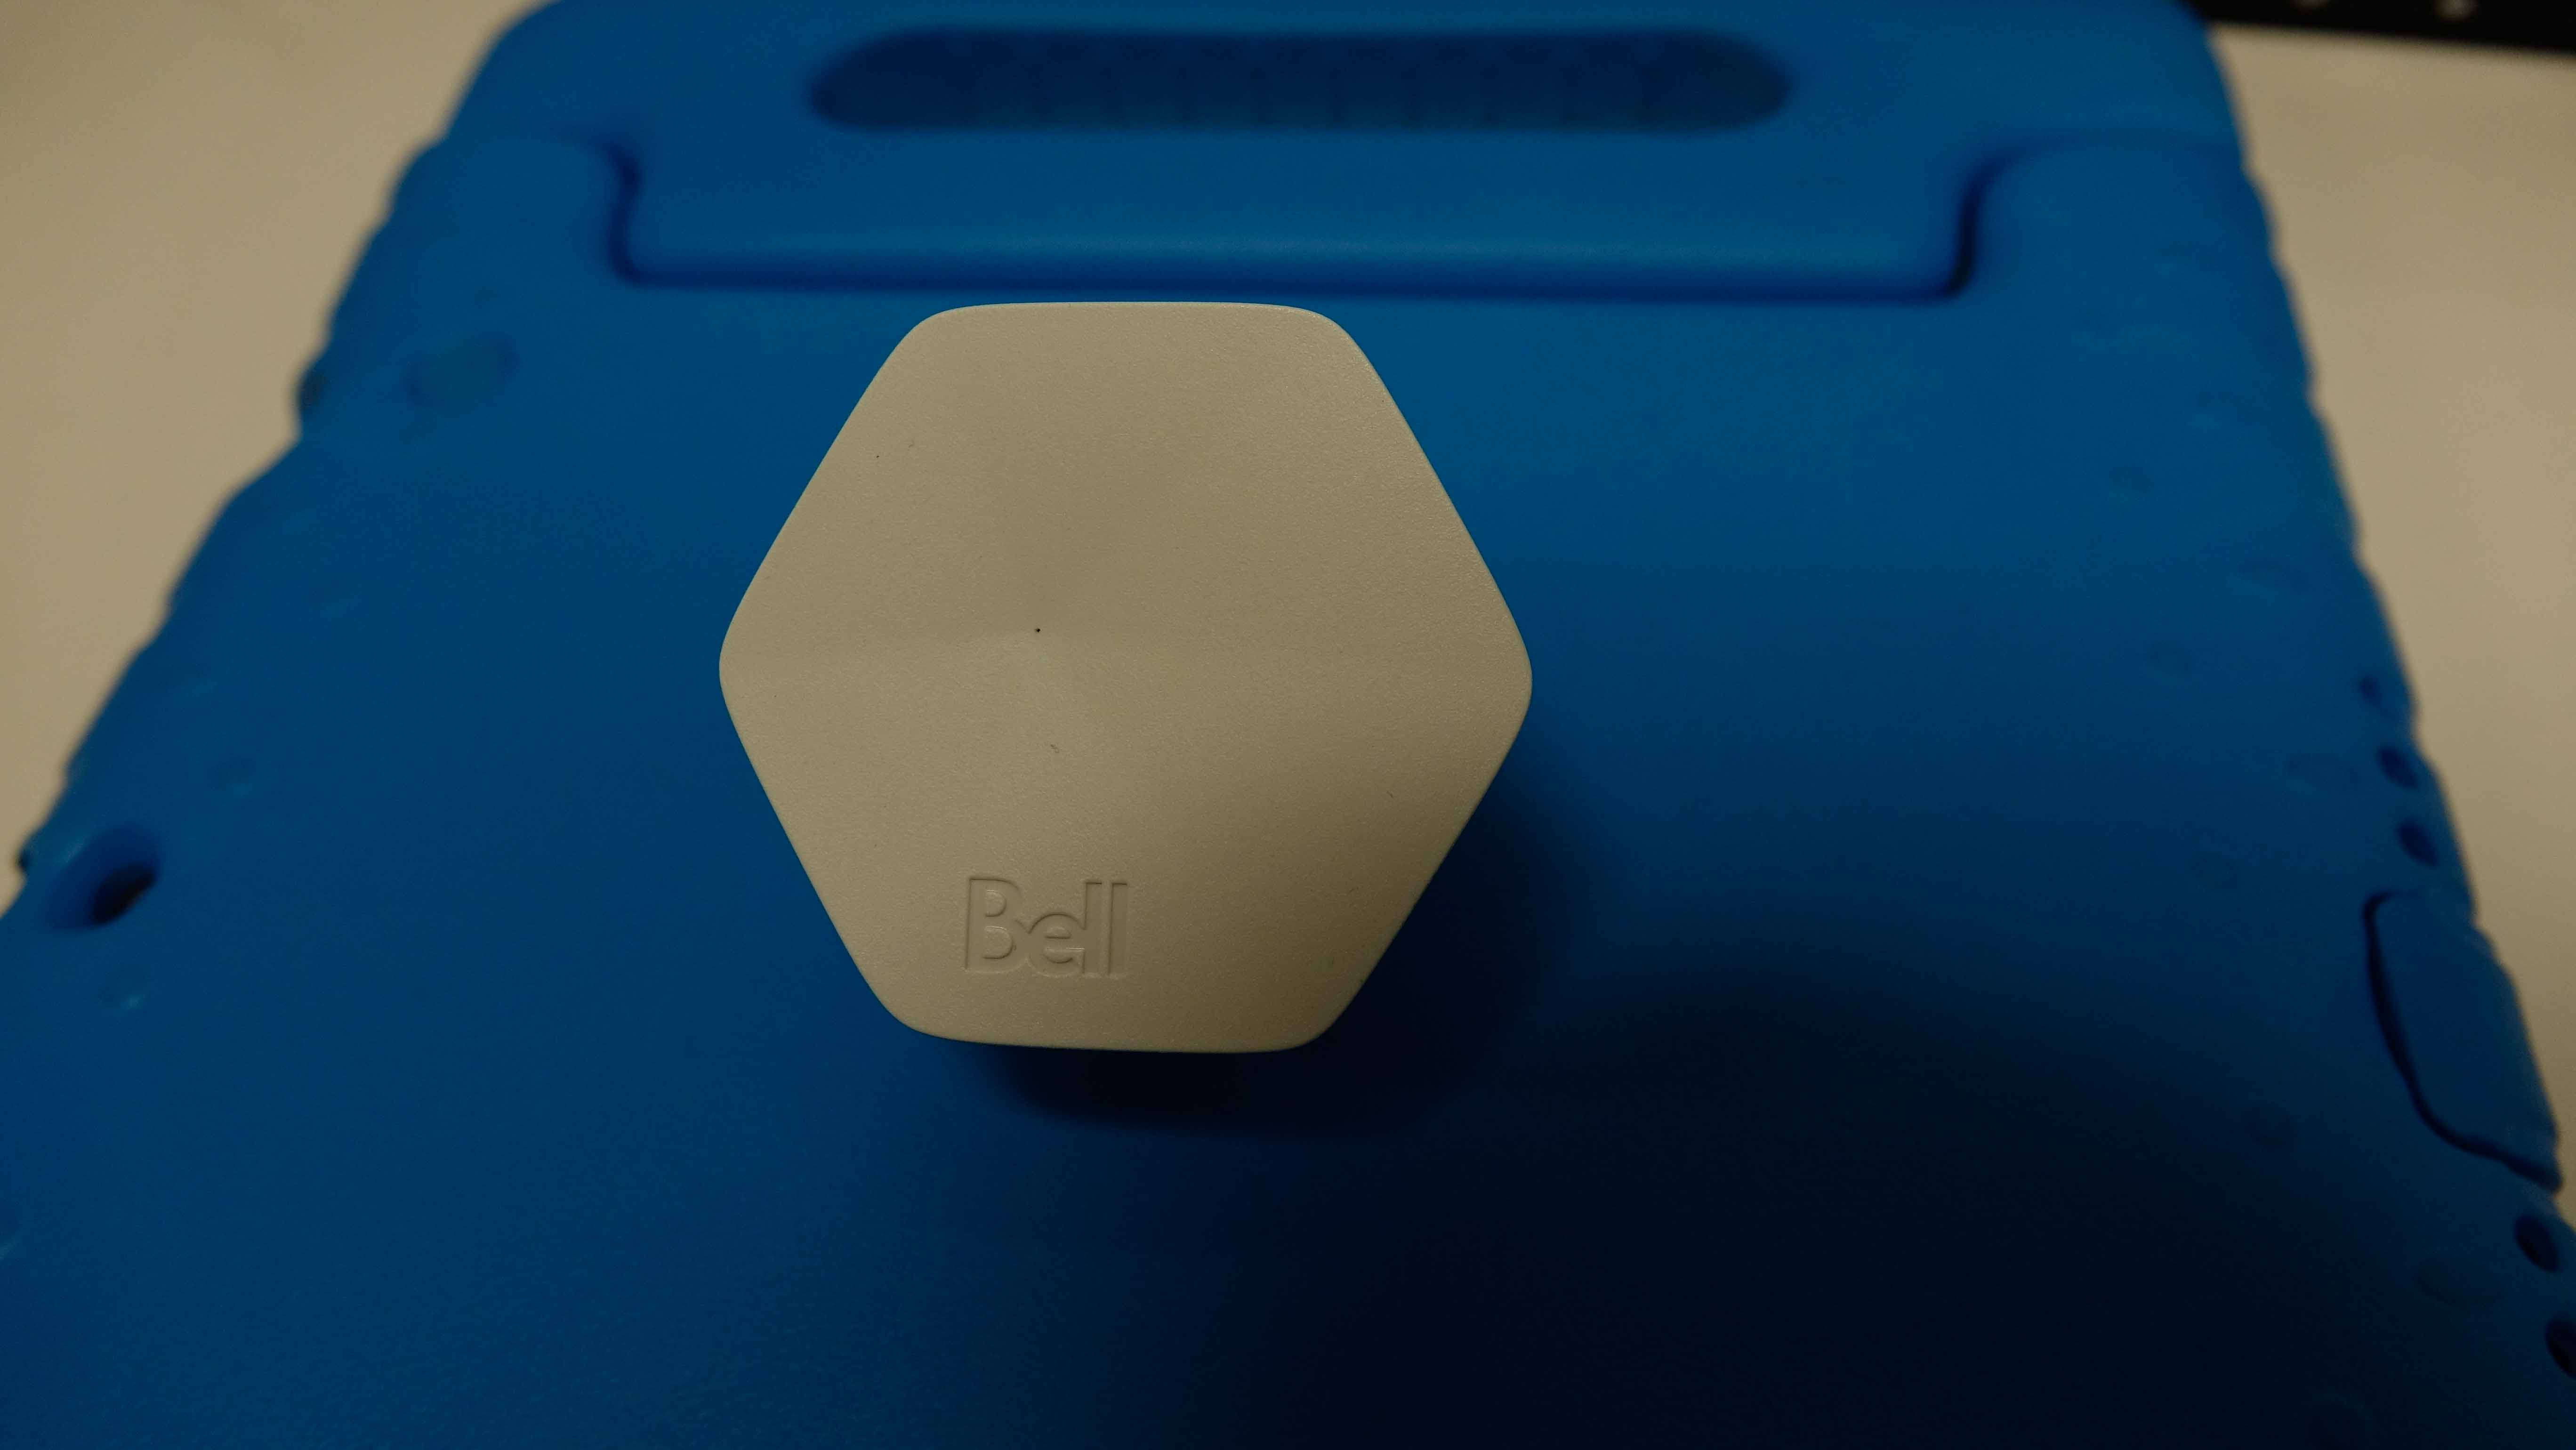pod: (706, 288, 1539, 1072)
